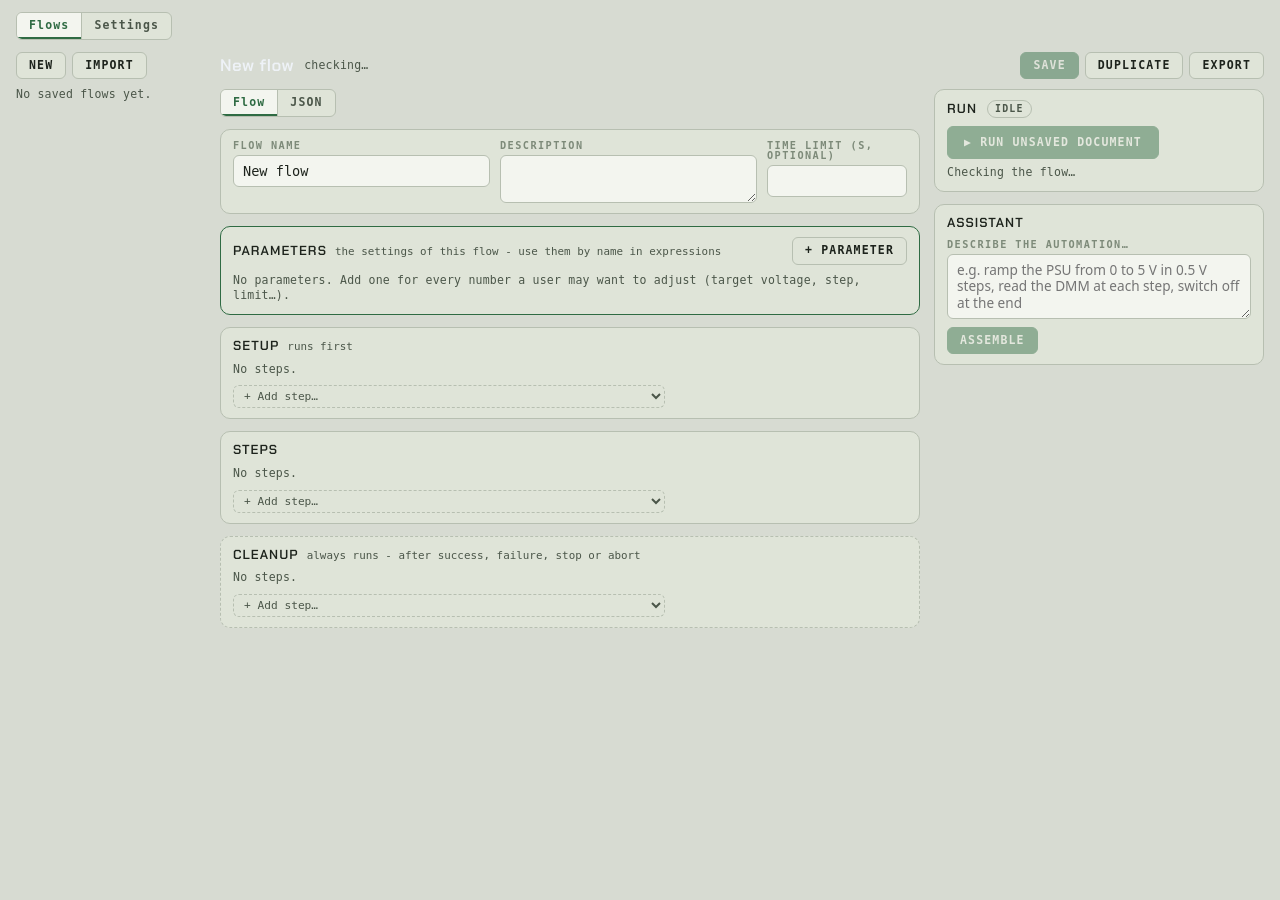
Test case: flow editor › shows 422 issues from saving a new flow
Select "Log - Write a run log line" in the dropdown named "Add step at the start of steps" at (449, 501), box [233,490,665,512]
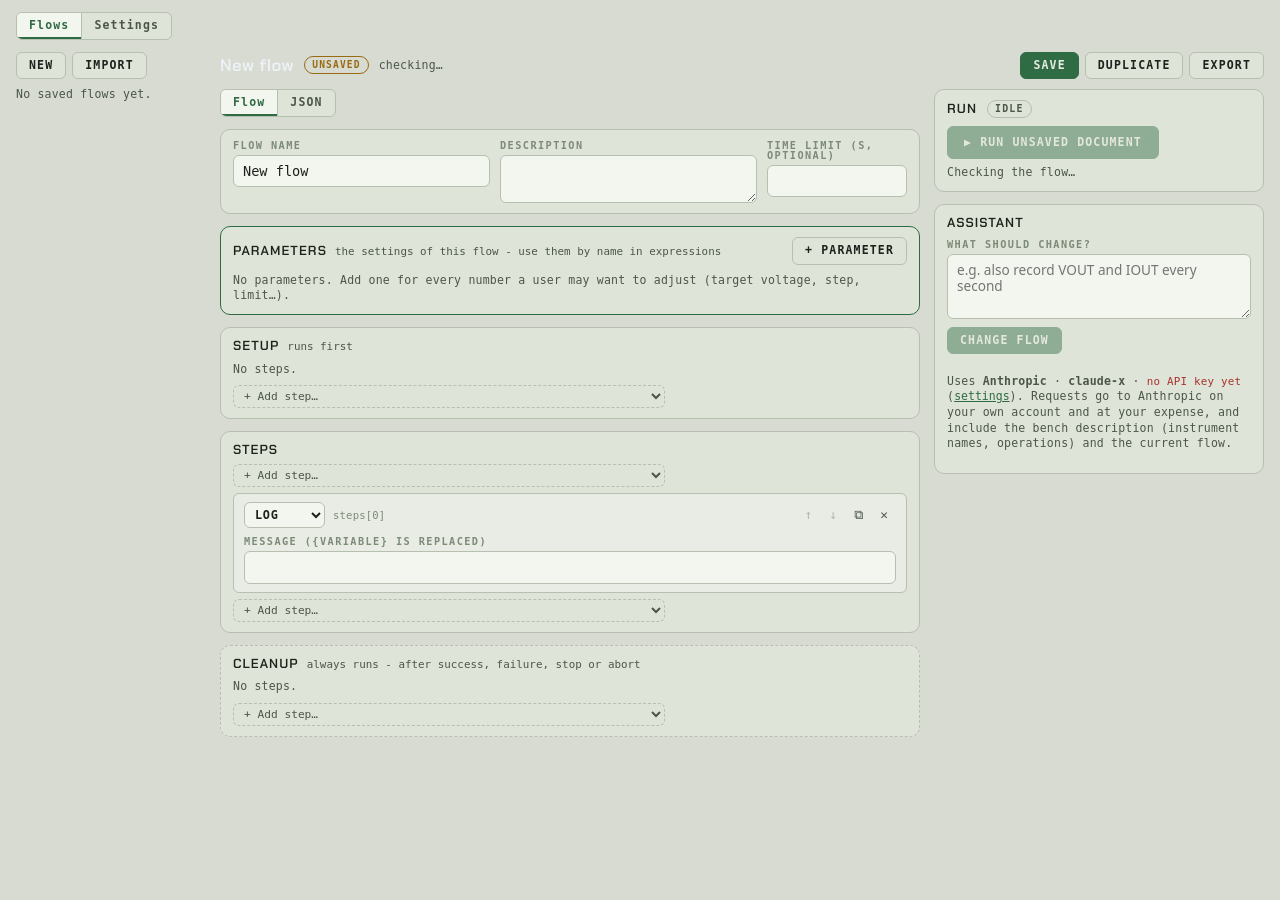
Expected: the button "Save" is enabled
Click the button "Save" at (1050, 65), box [1020,52,1079,79]
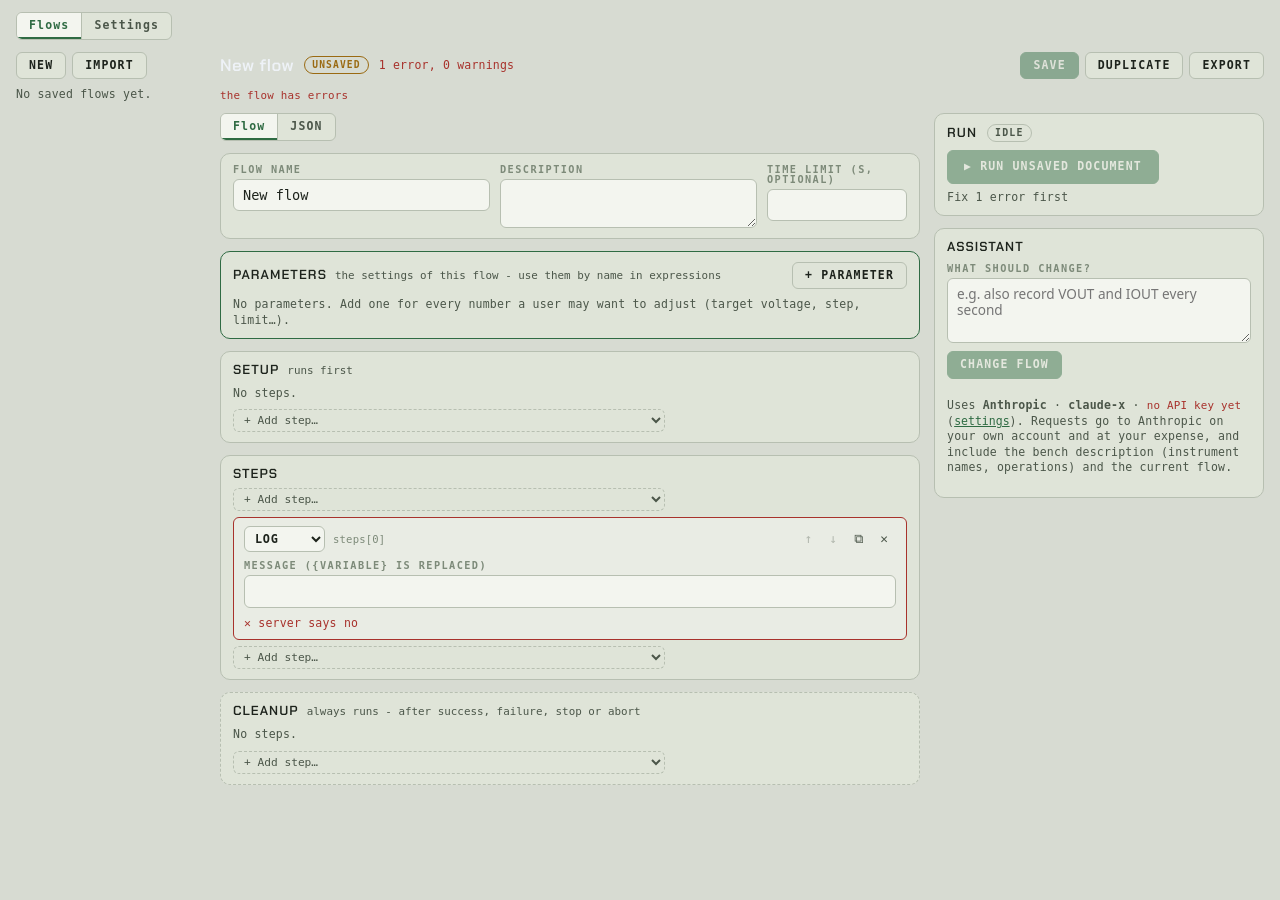
Expected: the text "the flow has errors" is shown, [220,89,348,102]
